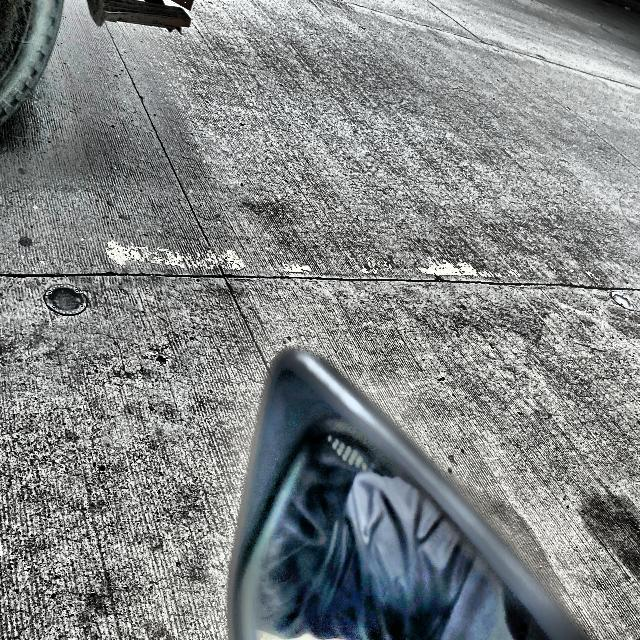no_or_faded_road_markings: (105, 240, 250, 276), (244, 262, 389, 279), (416, 261, 492, 282)
